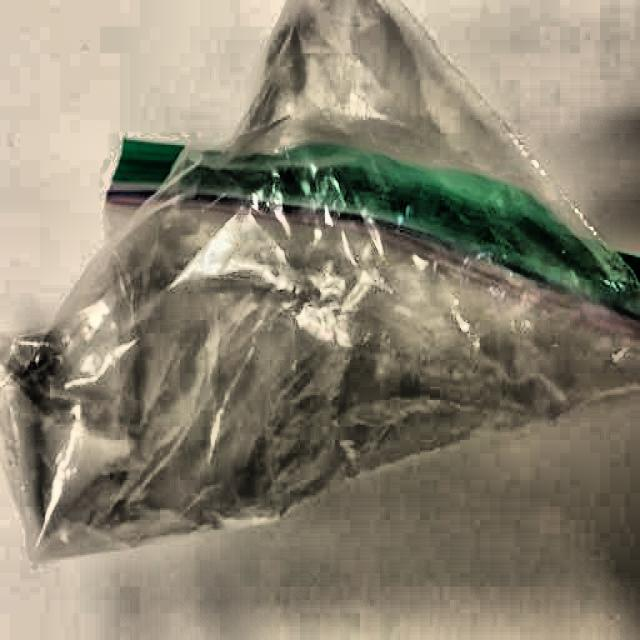plastic: (1, 8, 639, 538)
